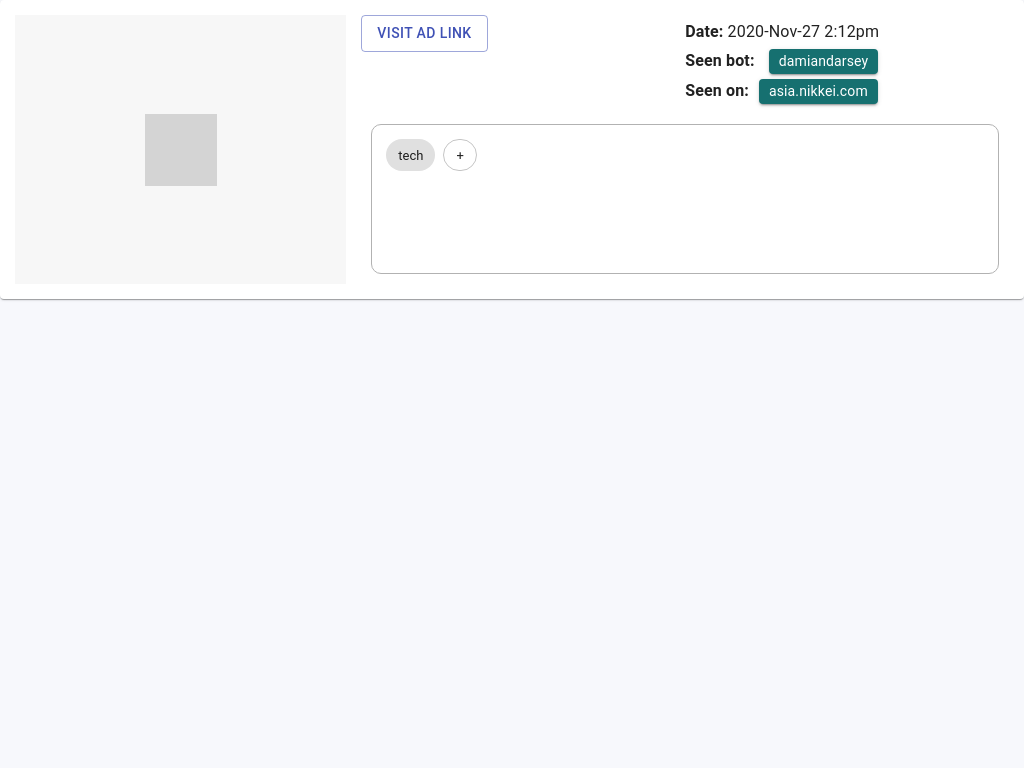
Ad card seen bot button click
Click the button "damiandarsey": {"x": 824, "y": 62} [769, 49, 878, 74]
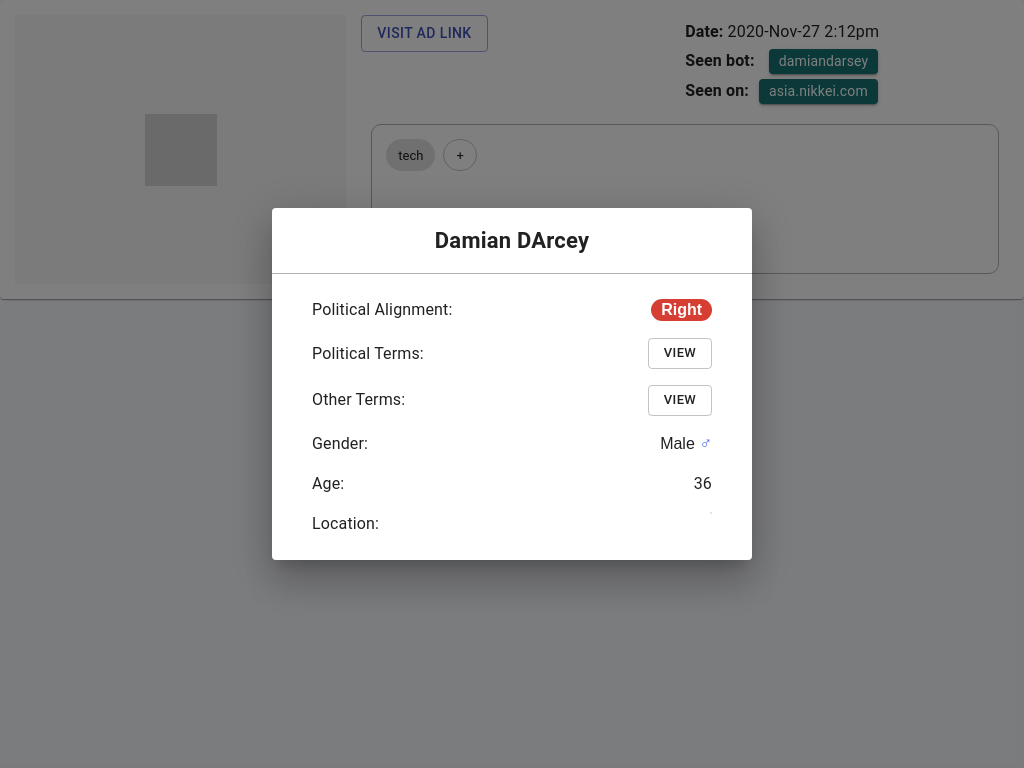
expect the text "Damian DArcey" is shown: met, box [435, 228, 589, 253]
